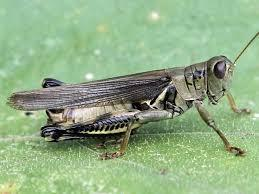Insects: (6, 31, 259, 161)
